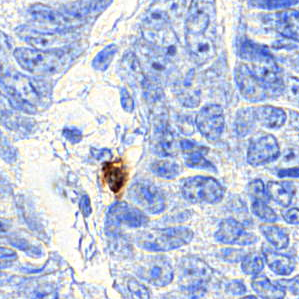Lymphocyte: (95, 157, 130, 194)
